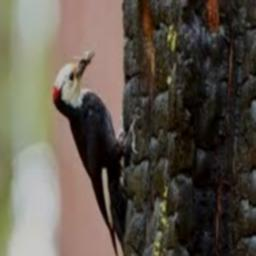Woodpecker: (55, 46, 140, 256)
